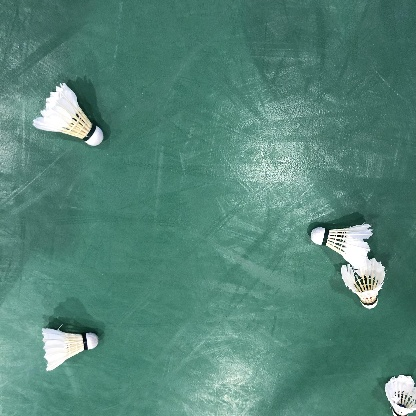ball_single: (32, 83, 104, 146), (311, 224, 373, 270), (42, 328, 98, 371), (341, 258, 386, 309), (385, 374, 416, 416)
